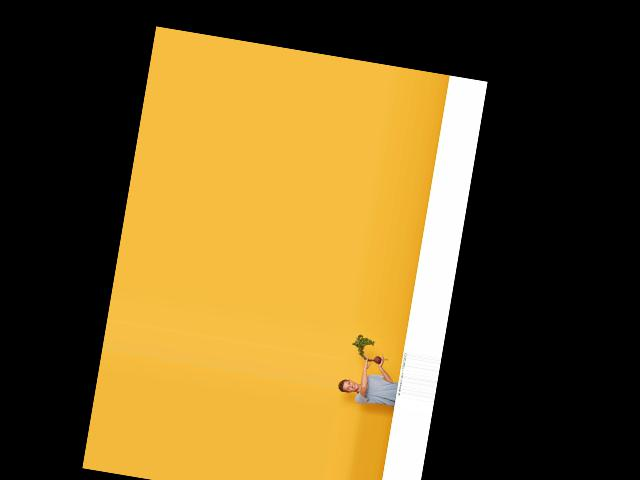beet: (350, 333, 391, 365)
